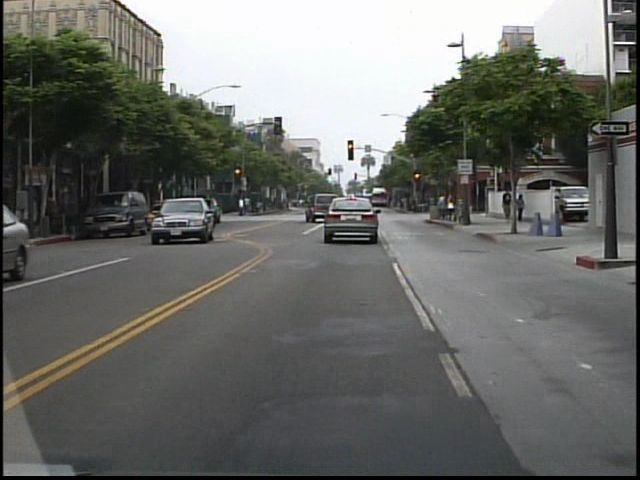person: (436, 189, 454, 223), (501, 186, 515, 226), (516, 189, 530, 225), (238, 193, 248, 219)
